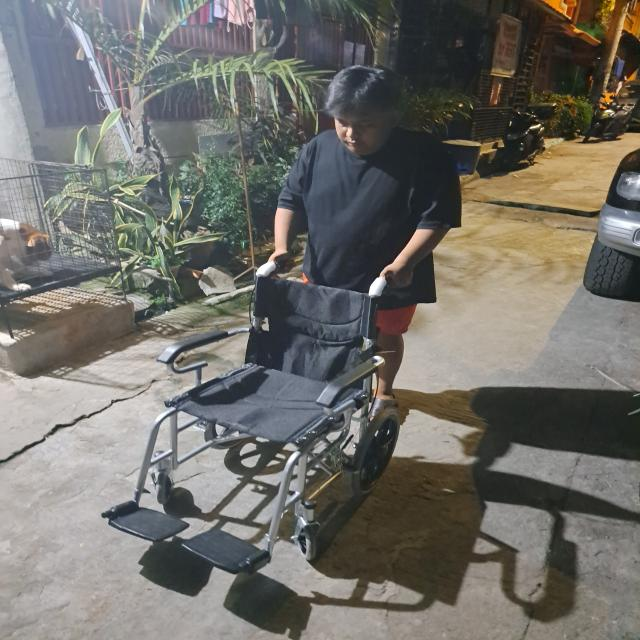wheelchairs: (103, 256, 421, 584)
